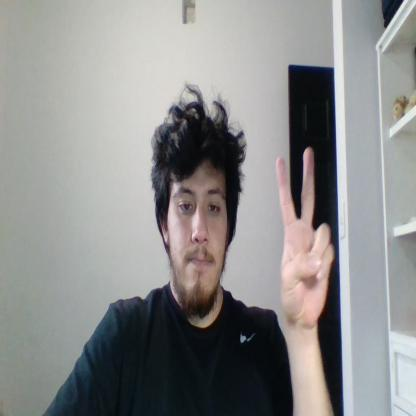V: (275, 148, 333, 328)
